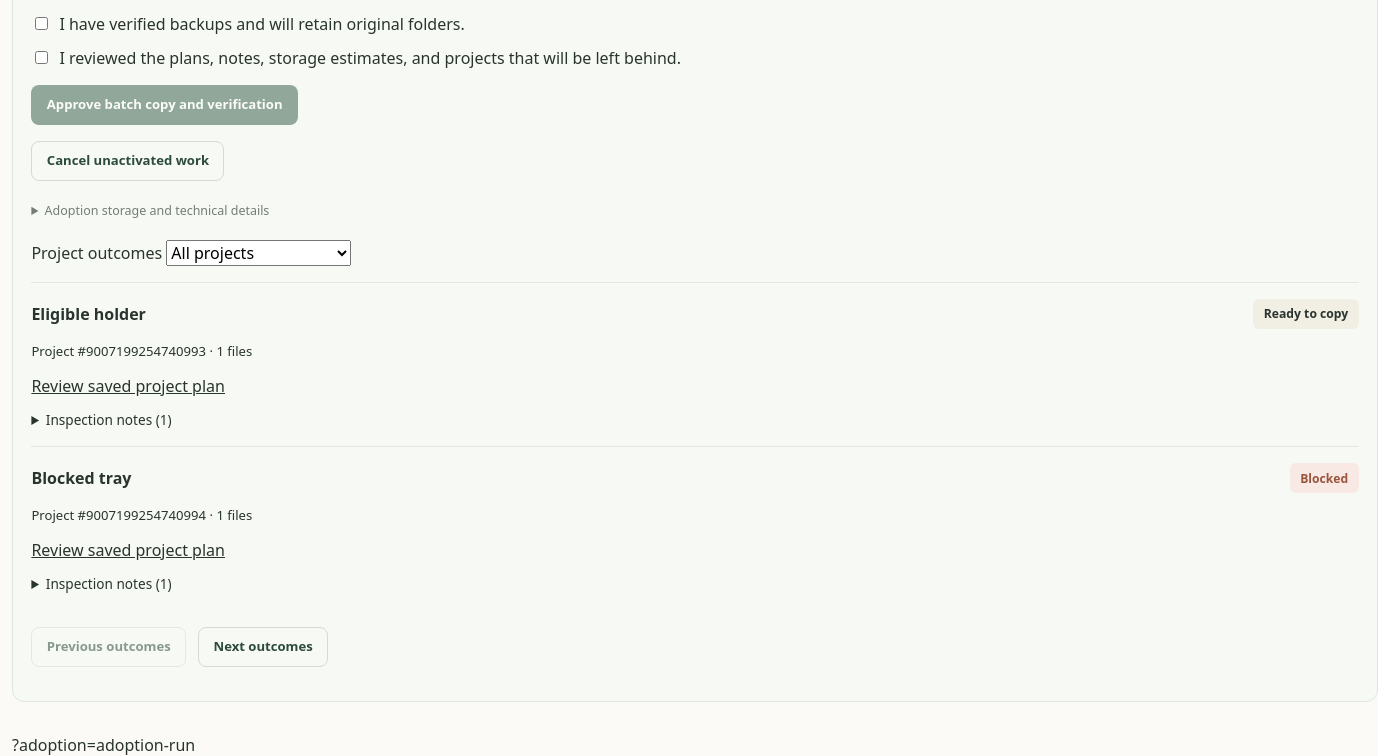
Test: filters outcomes and paginates with exact decimal-string cursors, keeping evidence accessible
This screenshot has width=1378, height=756.
(page scrolled)
Expected: the text "Eligible holder" is shown, [31,303,146,325]
Expected: the number of links "Review saved project plan" is 2, [31,375,225,397]; [31,539,225,561]
Click the button "Next outcomes".
click(263, 647)  # box [198,627,328,667]
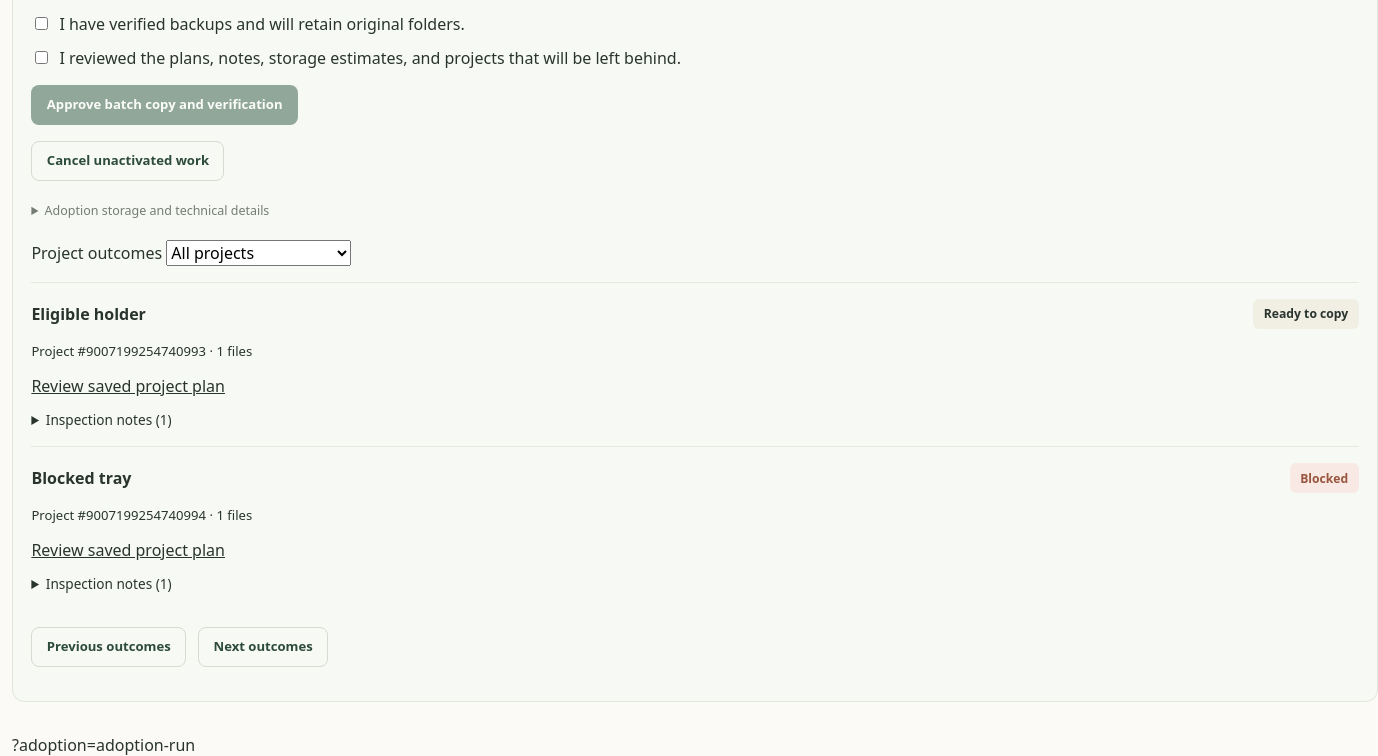
Select "Blocked" in the dropdown labelled "Project outcomes" at (259, 253), box [166,240,351,266]
(page scrolled)
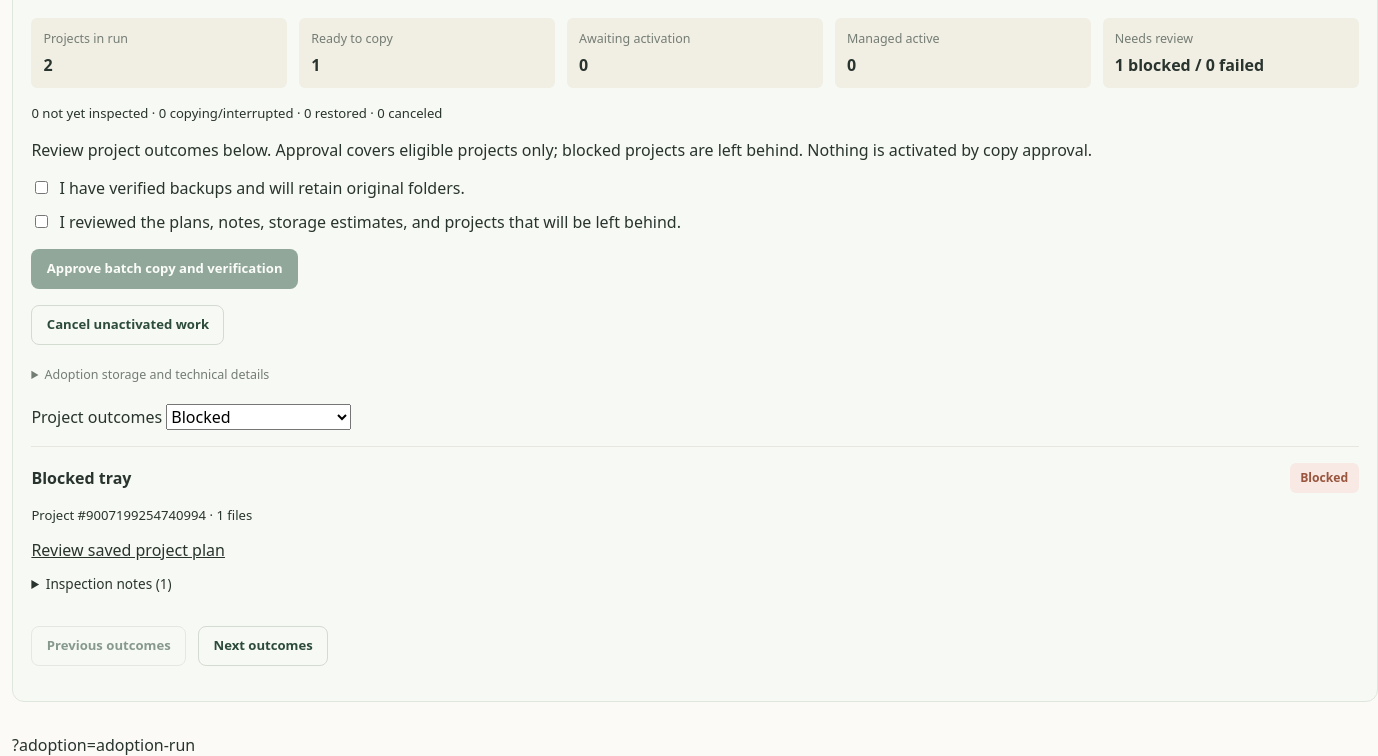
Expected: the button "Previous outcomes" is disabled, [31,626,186,666]
